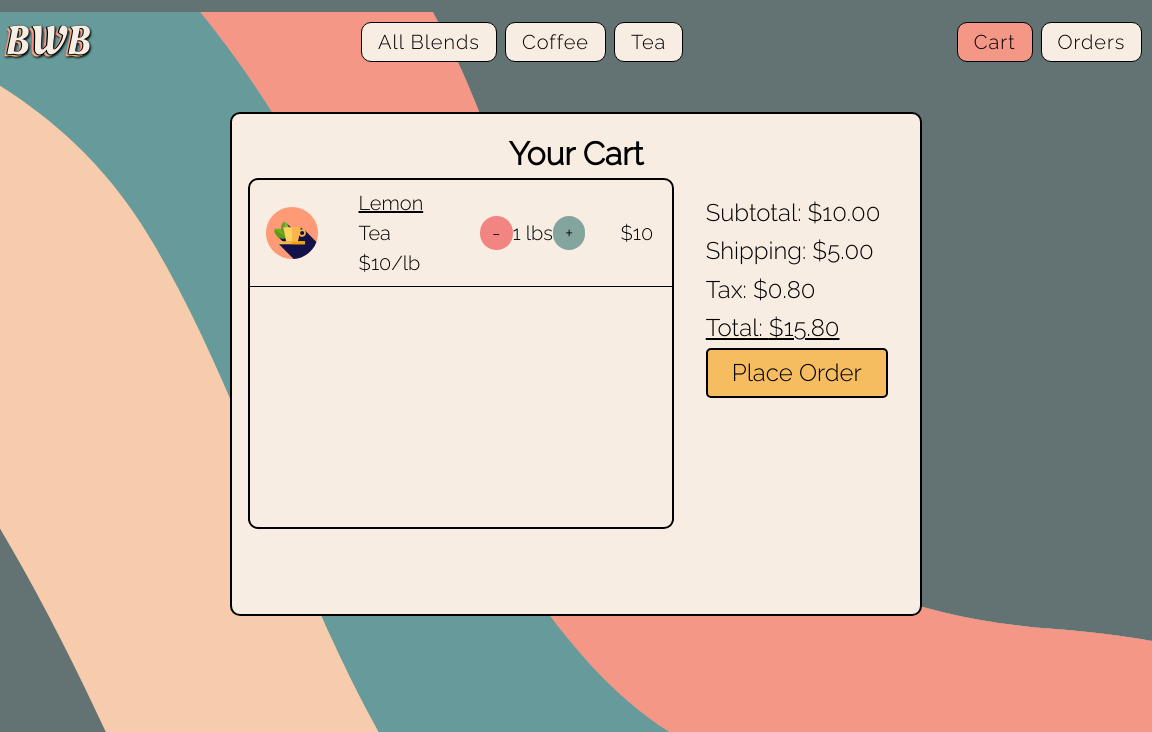
Test: Cart › should clear the cart once an order is placed
Click the button "Place Order" at (797, 373), box [706,348,888,398]
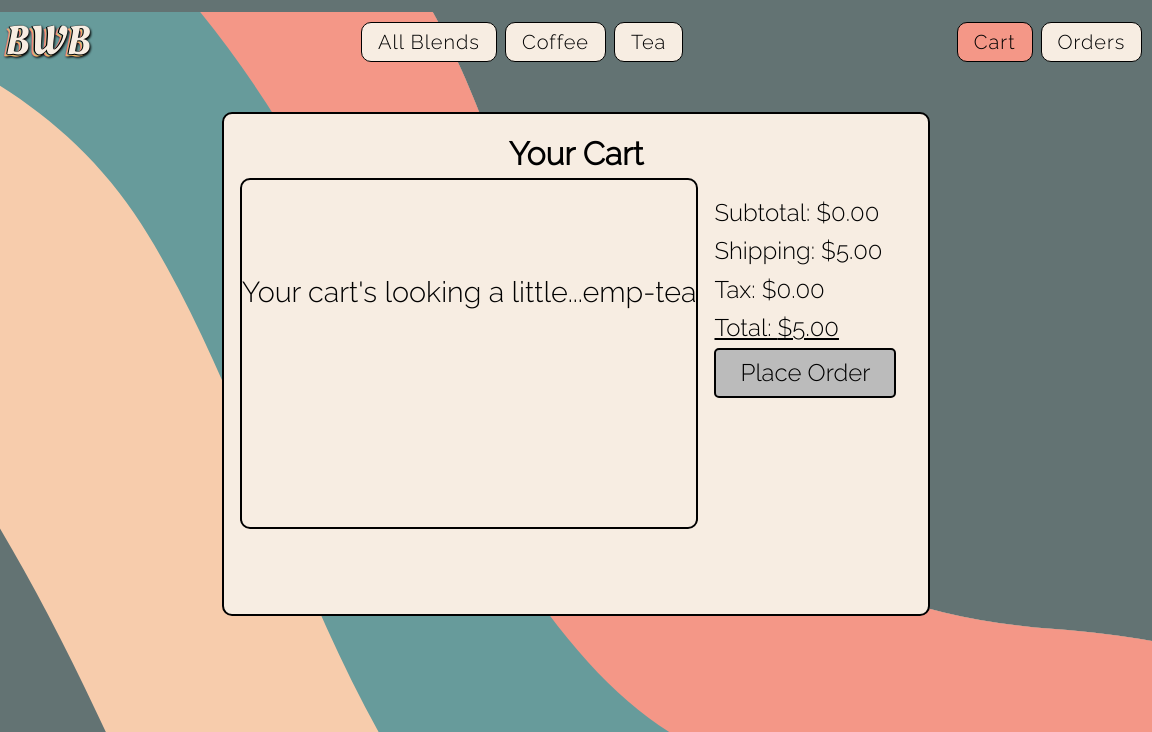
Now the text with class "cart-totals--subtotal" shows "$0.00", box [816,198,879,227]
Now the element with class "cart-counter" is gone
